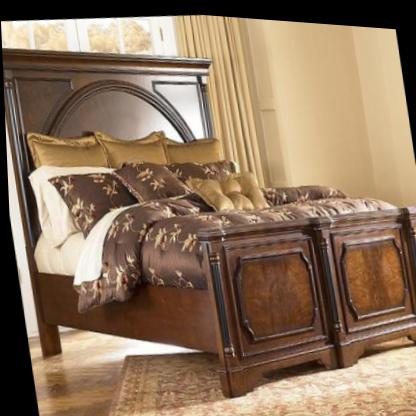Bed: (2, 49, 416, 384)
Carpet: (106, 335, 416, 416)
